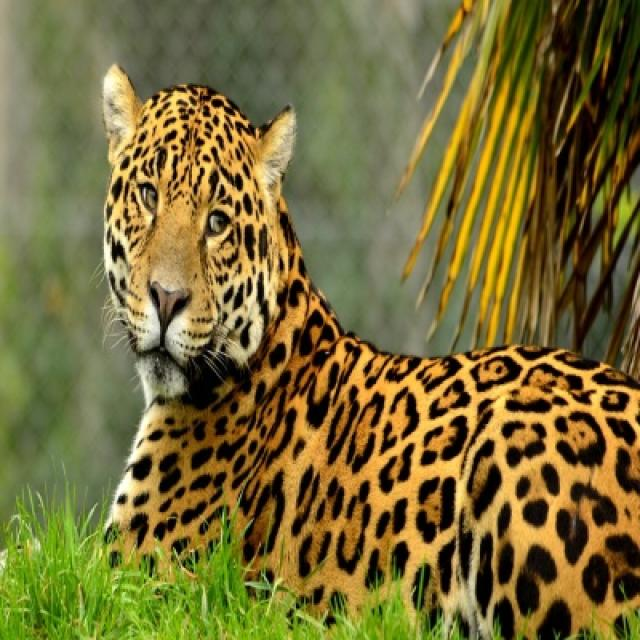Jaguar: (99, 64, 638, 638)
